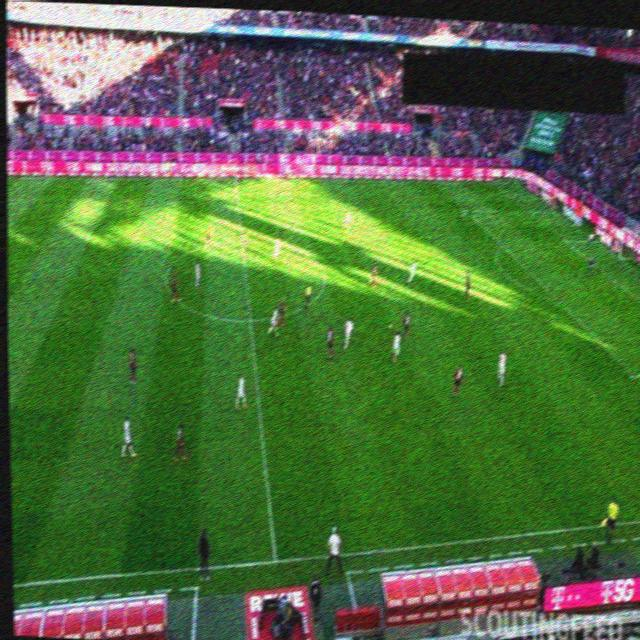bigarea_bottom_inner: (628, 368, 640, 380)
bigarea_top_inner: (460, 204, 472, 217)
bigarea_top_outter: (548, 205, 561, 217)
bottom_arc_area_intersection: (553, 293, 565, 306)
corner: (508, 177, 521, 190)
halfcircle_bottom: (242, 312, 255, 324)
halfcircle_top: (234, 233, 248, 247)
midline_bottom_intersection: (269, 556, 281, 568)
midline_top_intersection: (227, 174, 243, 184)
smallarea_top_inner: (558, 235, 570, 246)
smallarea_top_outter: (588, 233, 600, 245)
top_arc_area_intersection: (495, 240, 508, 252)
